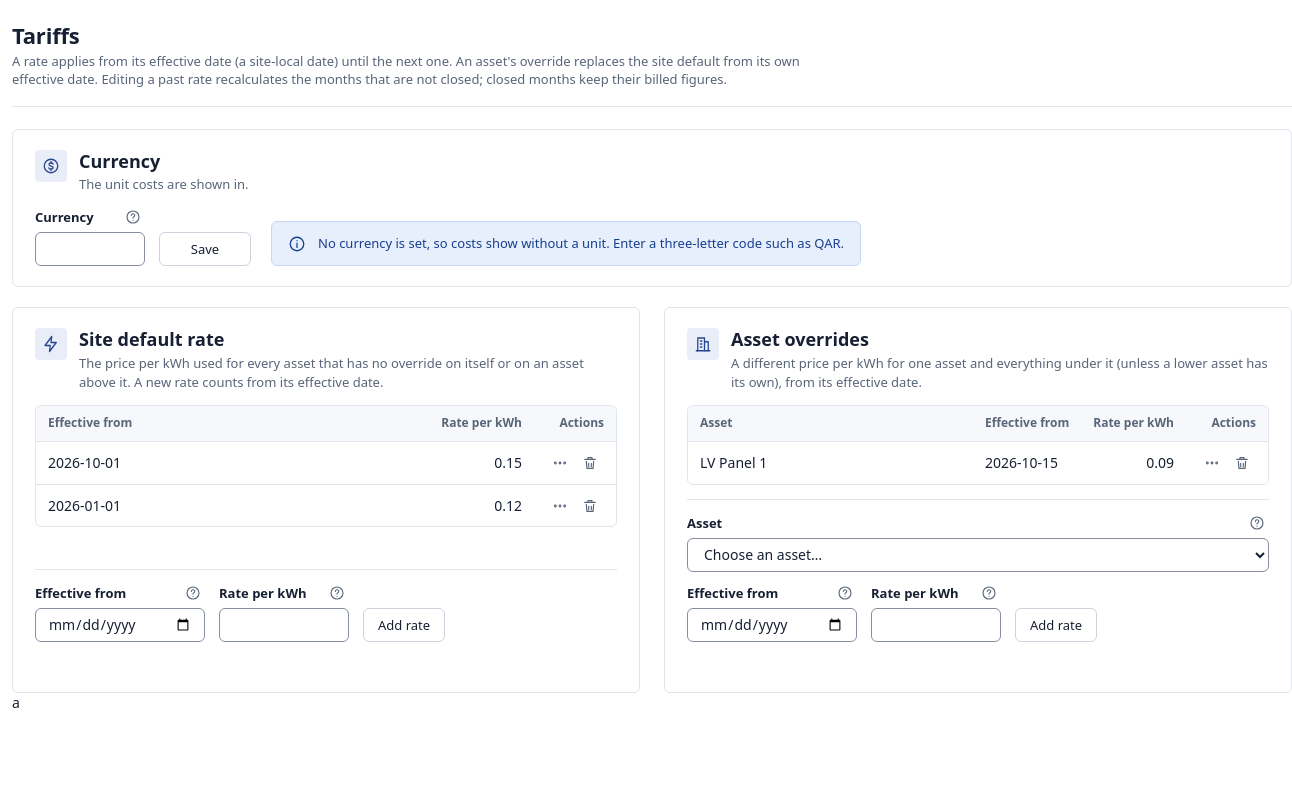
TariffsPage › asks for a currency when none is set and saves it in capitals
Expected: the text "No currency is set" is shown, x1=318 y1=234 x2=844 y2=252
Type "qar" into the field labelled "Currency" at (90, 249), box x1=35 y1=232 x2=145 y2=266
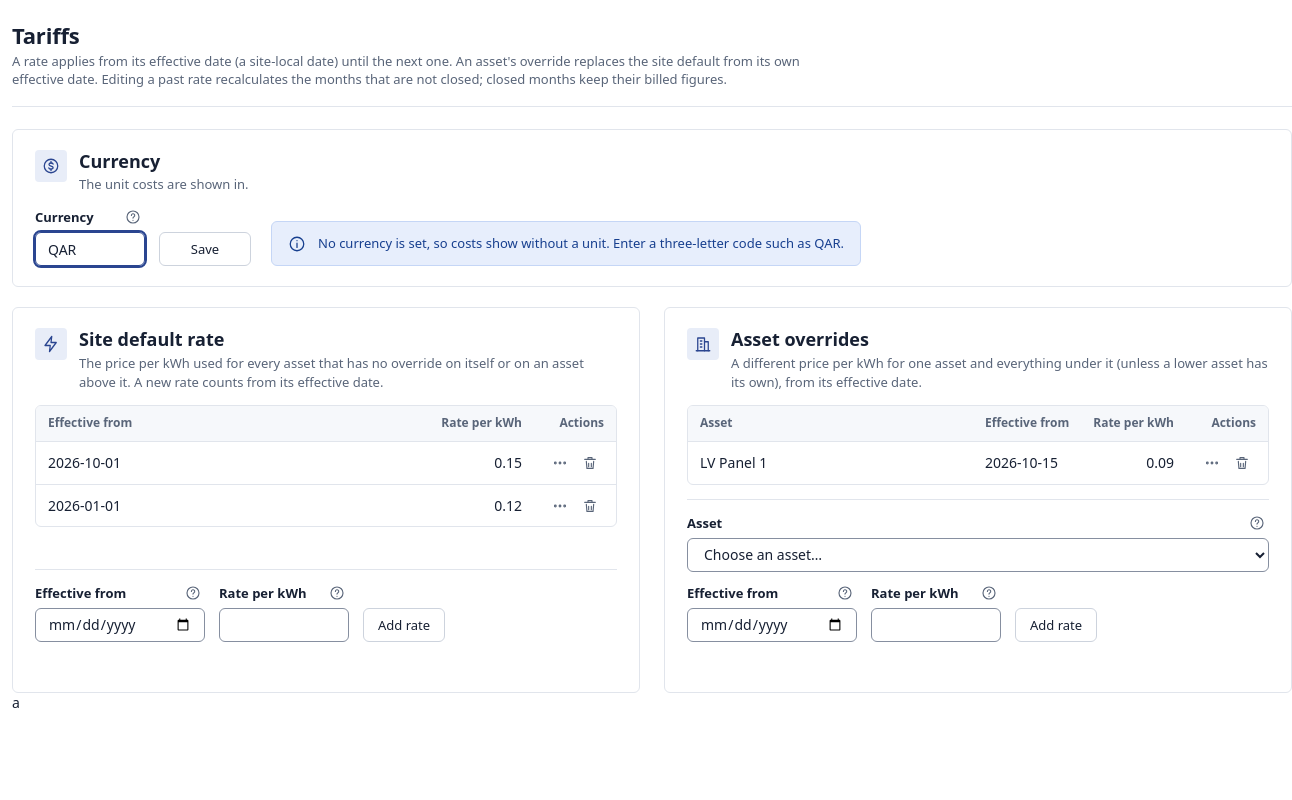
Click the button "Save" at (205, 249), box x1=159 y1=232 x2=251 y2=266
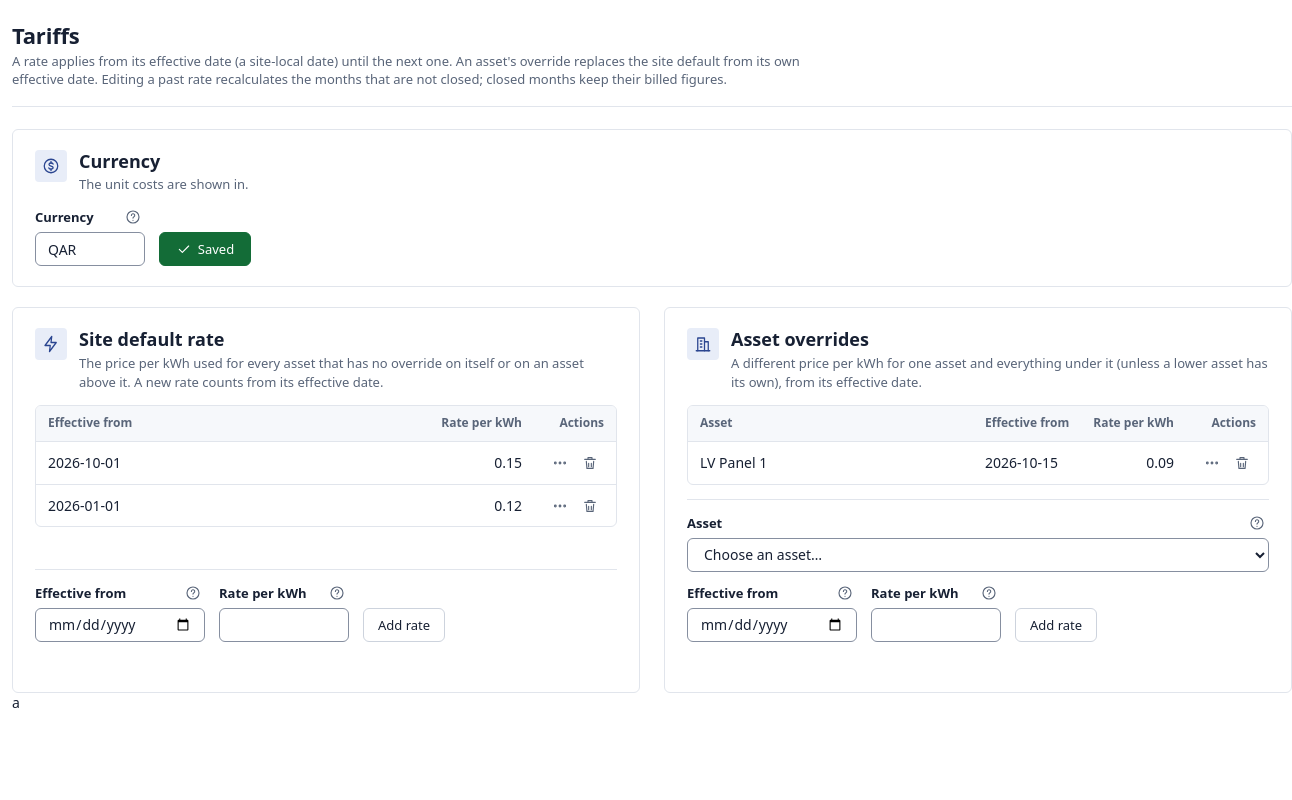
Result: the text "No currency is set" is gone
